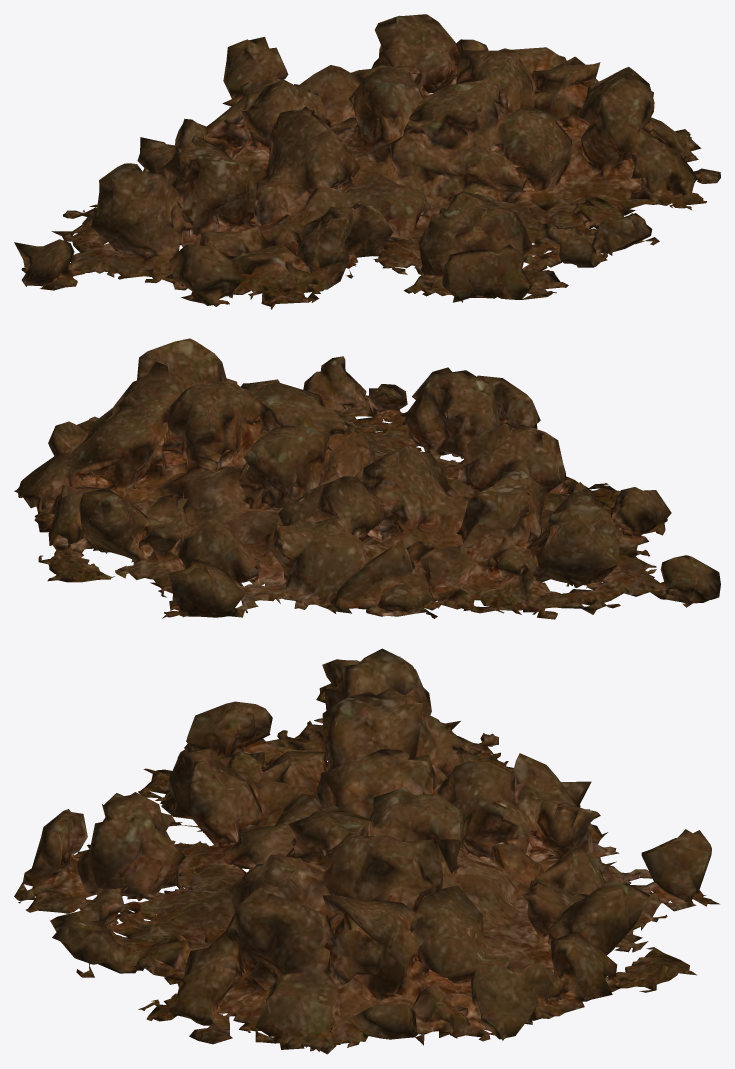
The model's file is motte.glb.
3 views of the same model, one above another, from view 1: azimuth 30°, elevation 25°; view 2: azimuth 150°, elevation 25°; view 3: azimuth 270°, elevation 25° (orthographic). The views are drawn at different scales.
Parts seen in each view (by area): view 1: Object_4; view 2: Object_4; view 3: Object_4.
Boxes of the visible parts, x1,y1,x2,y2 form: Object_4: (14,14,720,309); Object_4: (14,338,720,619); Object_4: (14,648,719,1054).
Size of the model in its own units: 0.8471 by 0.1284 by 0.6728.
Materials: 1 (1 with a texture image).
